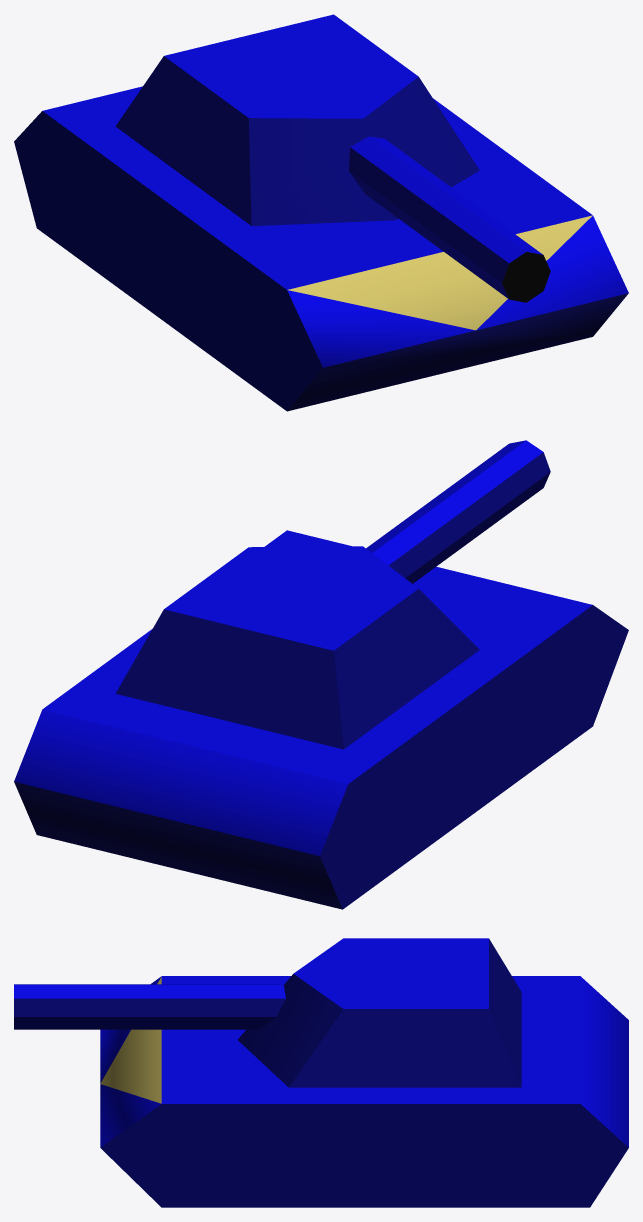
Rendered from Player_Tank.fbx.
3 renders of one model, top to bottom at view 1: azimuth 30°, elevation 25°; view 2: azimuth 150°, elevation 25°; view 3: azimuth 270°, elevation 25°, orthographic. The views are drawn at different scales.
Parts seen in each view (by area): view 1: pCube1, pCylinder2; view 2: pCube1, pCylinder2; view 3: pCube1, pCylinder2.
Part boxes in pixels (left/top/right/bottom): pCube1: left=14, top=86, right=628, bottom=411; pCylinder2: left=115, top=14, right=550, bottom=302; pCube1: left=14, top=530, right=628, bottom=909; pCylinder2: left=115, top=440, right=550, bottom=749; pCube1: left=100, top=976, right=628, bottom=1207; pCylinder2: left=14, top=938, right=521, bottom=1087.
Bounding box in the file's own units: 0.8 × 0.4973 × 1.63.
